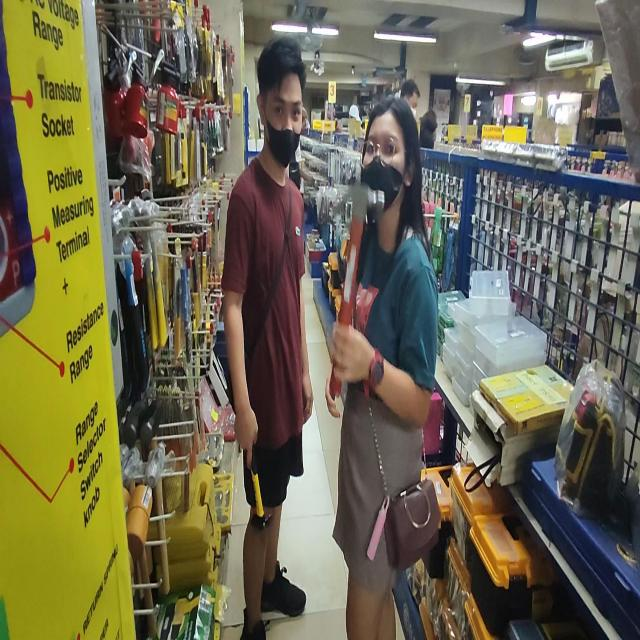hammer: (337, 184, 384, 390), (250, 447, 273, 531)
